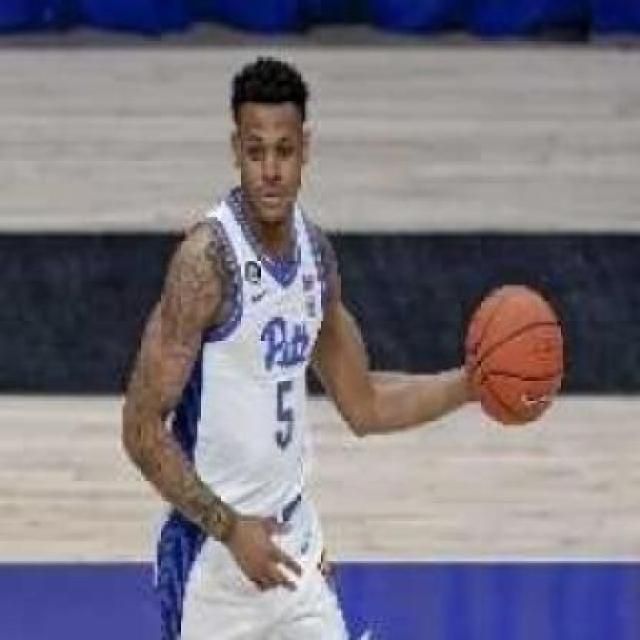ball: (464, 278, 562, 436)
person: (119, 54, 478, 640)
